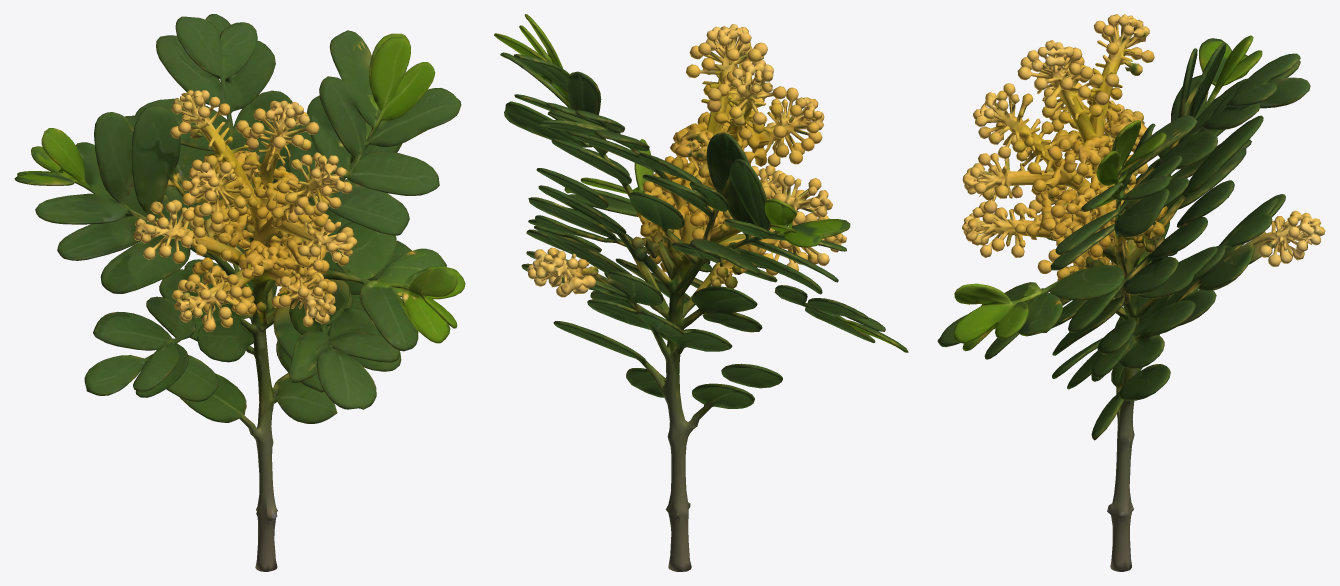
Rendered from milan.glb.
The picture shows the model from 3 angles, left to right: view 1: azimuth 30°, elevation 25°; view 2: azimuth 150°, elevation 25°; view 3: azimuth 270°, elevation 25°; orthographic projection. The views are drawn at different scales.
Visible parts, largest first — view 1: node_0; view 2: node_0; view 3: node_0.
Boxes of the visible parts, bbox=[...] form: node_0: bbox=[14, 14, 465, 571]; node_0: bbox=[494, 14, 908, 571]; node_0: bbox=[937, 14, 1325, 571].
Size of the model in its own units: 0.8262 by 1.01 by 0.6863.
Materials: 1 (1 with a texture image).
